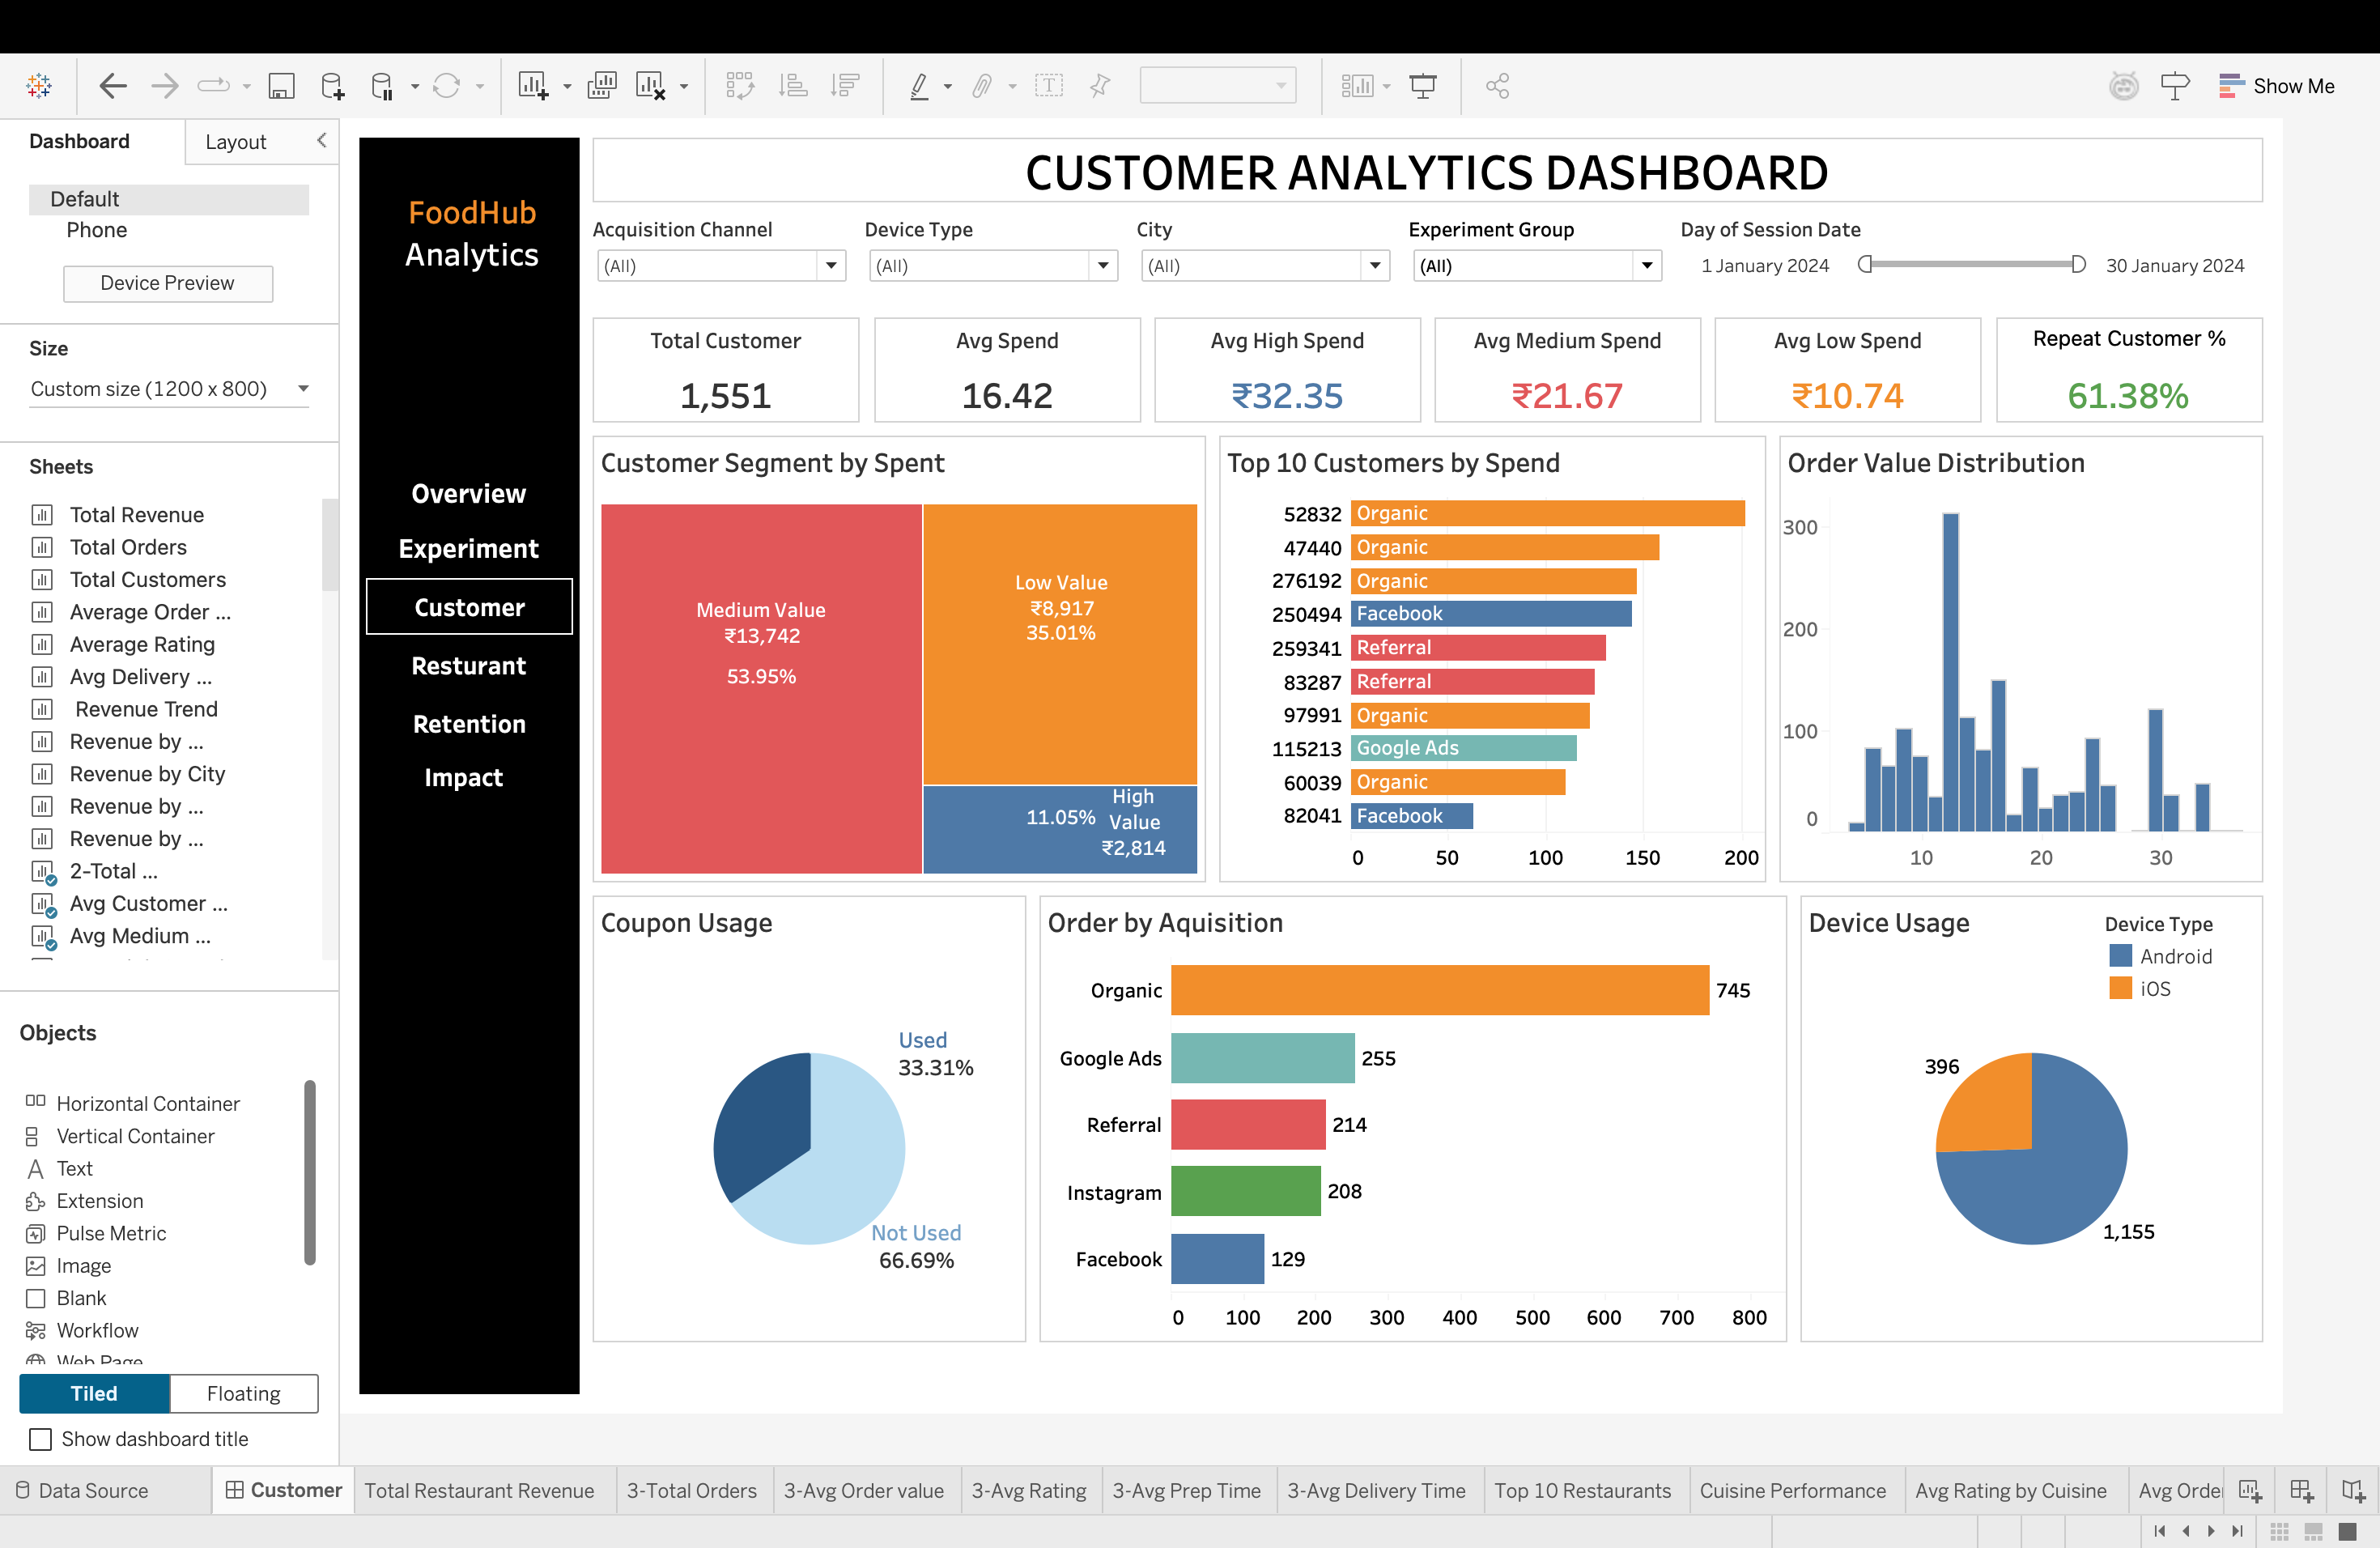

The page's visual inventory and layout, read from the dashboard file:
{"tool":"tableau","page":{"name":"Customer","canvas":[1200,800],"ordinal":2},"visuals":[{"type":"blank","box":[8,8,144.4,784]},{"type":"text","box":[152.4,8,1039.6,48]},{"type":"text","box":[16.8,14,129.6,112]},{"type":"filter","title":"2-Total Customers","param":"[federated.04771kg1n7e6yv150xim61noe0i6].[none:acquisition_channel:nk]","box":[152.4,56,168,63]},{"type":"filter","title":"2-Total Customers","param":"[federated.04771kg1n7e6yv150xim61noe0i6].[none:device_type:nk]","box":[320.4,56,168,63]},{"type":"filter","title":"2-Total Customers","param":"[federated.04771kg1n7e6yv150xim61noe0i6].[none:city:nk]","box":[488.4,56,168,63]},{"type":"filter","title":"2-Total Customers","param":"[federated.04771kg1n7e6yv150xim61noe0i6].[tdy:session_date:qk]","box":[656.4,56,535.6,63]},{"type":"worksheet","title":"2-Total Customers","mark":"Automatic","box":[152.4,119,173.3,73]},{"type":"worksheet","title":"Avg Customer Spend","mark":"Automatic","box":[325.7,119,173.3,73]},{"type":"worksheet","title":"Avg High Spend","mark":"Automatic","box":[498.9,119,173.3,73]},{"type":"worksheet","title":"Avg Medium Spend","mark":"Automatic","box":[672.2,119,173.3,73]},{"type":"worksheet","title":"Avg Low Spend","mark":"Automatic","box":[845.5,119,173.3,73]},{"type":"worksheet","title":"Repeat Customer %","mark":"Automatic","box":[1018.7,119,173.3,73]},{"type":"worksheet","title":"Customer Segments","mark":"Automatic","box":[152.4,192,422.3,284]},{"type":"worksheet","title":"Top 10 Customers","mark":"Automatic","rows":["customer_id"],"cols":["cost_of_the_order"],"box":[574.7,192,310.4,284]},{"type":"worksheet","title":"Order Value Distribution","mark":"Automatic","rows":["cost_of_the_order"],"cols":["Cost Of The Order (bin)"],"box":[885.2,192,306.8,284]},{"type":"dashboard-object","box":[17,216,129,31]},{"type":"dashboard-object","box":[16,248,128,35]},{"type":"dashboard-object","box":[19,284,128,35]},{"type":"dashboard-object","box":[15.6,320,128.4,35]},{"type":"dashboard-object","box":[15.6,356,128.4,35]},{"type":"worksheet","title":"Coupon Usage","mark":"Pie","box":[152.4,476,276,284]},{"type":"worksheet","title":"Acquisition Channel","mark":"Automatic","rows":["acquisition_channel"],"cols":["customer_id"],"box":[428.4,476,470,284]},{"type":"worksheet","title":"Device Usage","mark":"Pie","box":[898.4,476,293.6,284]}]}

Visuals, with their boxes on the page's 1200x800 design canvas (x1, y1, x2, y2). These are canvas units, not pixel positions in the 2380x1548 screenshot, which may show the page scaled, cropped or inside an application window:
blank: (x1=8, y1=8, x2=152, y2=792)
text: (x1=152, y1=8, x2=1192, y2=56)
text: (x1=17, y1=14, x2=146, y2=126)
"2-Total Customers" filter: (x1=152, y1=56, x2=320, y2=119)
"2-Total Customers" filter: (x1=320, y1=56, x2=488, y2=119)
"2-Total Customers" filter: (x1=488, y1=56, x2=656, y2=119)
"2-Total Customers" filter: (x1=656, y1=56, x2=1192, y2=119)
"2-Total Customers" worksheet: (x1=152, y1=119, x2=326, y2=192)
"Avg Customer Spend" worksheet: (x1=326, y1=119, x2=499, y2=192)
"Avg High Spend" worksheet: (x1=499, y1=119, x2=672, y2=192)
"Avg Medium Spend" worksheet: (x1=672, y1=119, x2=846, y2=192)
"Avg Low Spend" worksheet: (x1=846, y1=119, x2=1019, y2=192)
"Repeat Customer %" worksheet: (x1=1019, y1=119, x2=1192, y2=192)
"Customer Segments" worksheet: (x1=152, y1=192, x2=575, y2=476)
"Top 10 Customers" worksheet: (x1=575, y1=192, x2=885, y2=476)
"Order Value Distribution" worksheet: (x1=885, y1=192, x2=1192, y2=476)
dashboard-object: (x1=17, y1=216, x2=146, y2=247)
dashboard-object: (x1=16, y1=248, x2=144, y2=283)
dashboard-object: (x1=19, y1=284, x2=147, y2=319)
dashboard-object: (x1=16, y1=320, x2=144, y2=355)
dashboard-object: (x1=16, y1=356, x2=144, y2=391)
"Coupon Usage" worksheet (Pie marks): (x1=152, y1=476, x2=428, y2=760)
"Acquisition Channel" worksheet: (x1=428, y1=476, x2=898, y2=760)
"Device Usage" worksheet (Pie marks): (x1=898, y1=476, x2=1192, y2=760)
